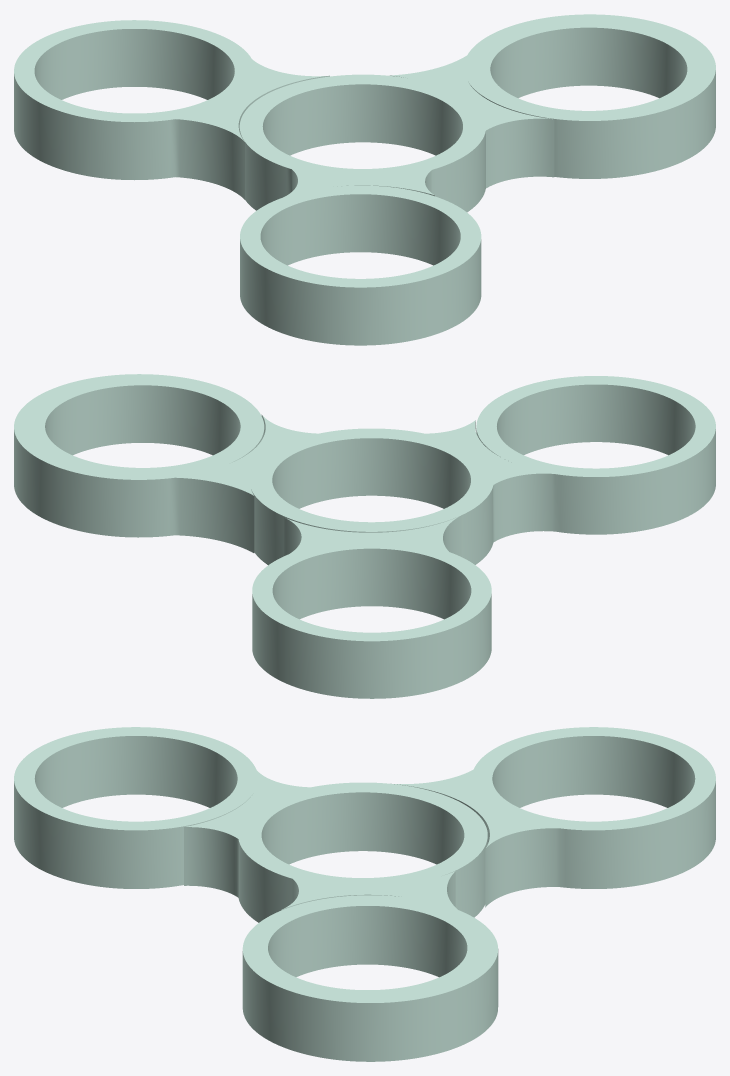
3 renders of one model, top to bottom at view 1: azimuth 30°, elevation 25°; view 2: azimuth 150°, elevation 25°; view 3: azimuth 270°, elevation 25°, orthographic. The views are drawn at different scales.
Parts seen in each view (by area): view 1: Renderer Node; view 2: Renderer Node; view 3: Renderer Node.
Boxes of the visible parts, x1=… form: Renderer Node: x1=14, y1=14, x2=715, y2=345; Renderer Node: x1=14, y1=374, x2=715, y2=698; Renderer Node: x1=14, y1=727, x2=715, y2=1061.
Bounding box in the file's own units: 1.26 × 0.125 × 1.35.
